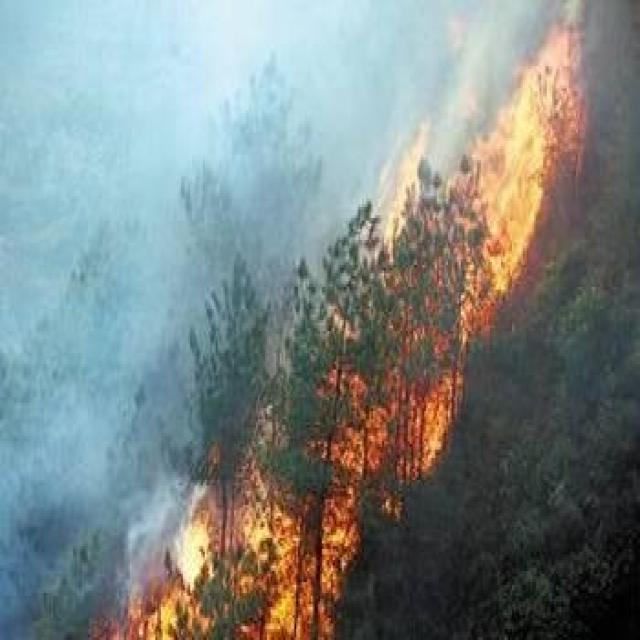Fire: (455, 6, 584, 358), (106, 471, 368, 640), (321, 214, 462, 521)
Smoke: (84, 1, 320, 467), (2, 3, 89, 639), (320, 1, 457, 250), (83, 488, 167, 590)
